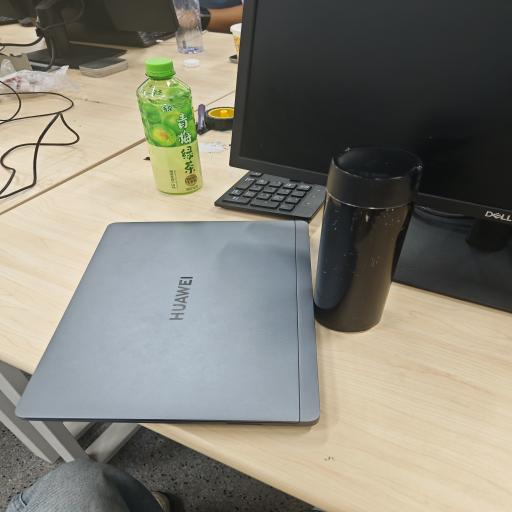laptop: (16, 221, 319, 425)
